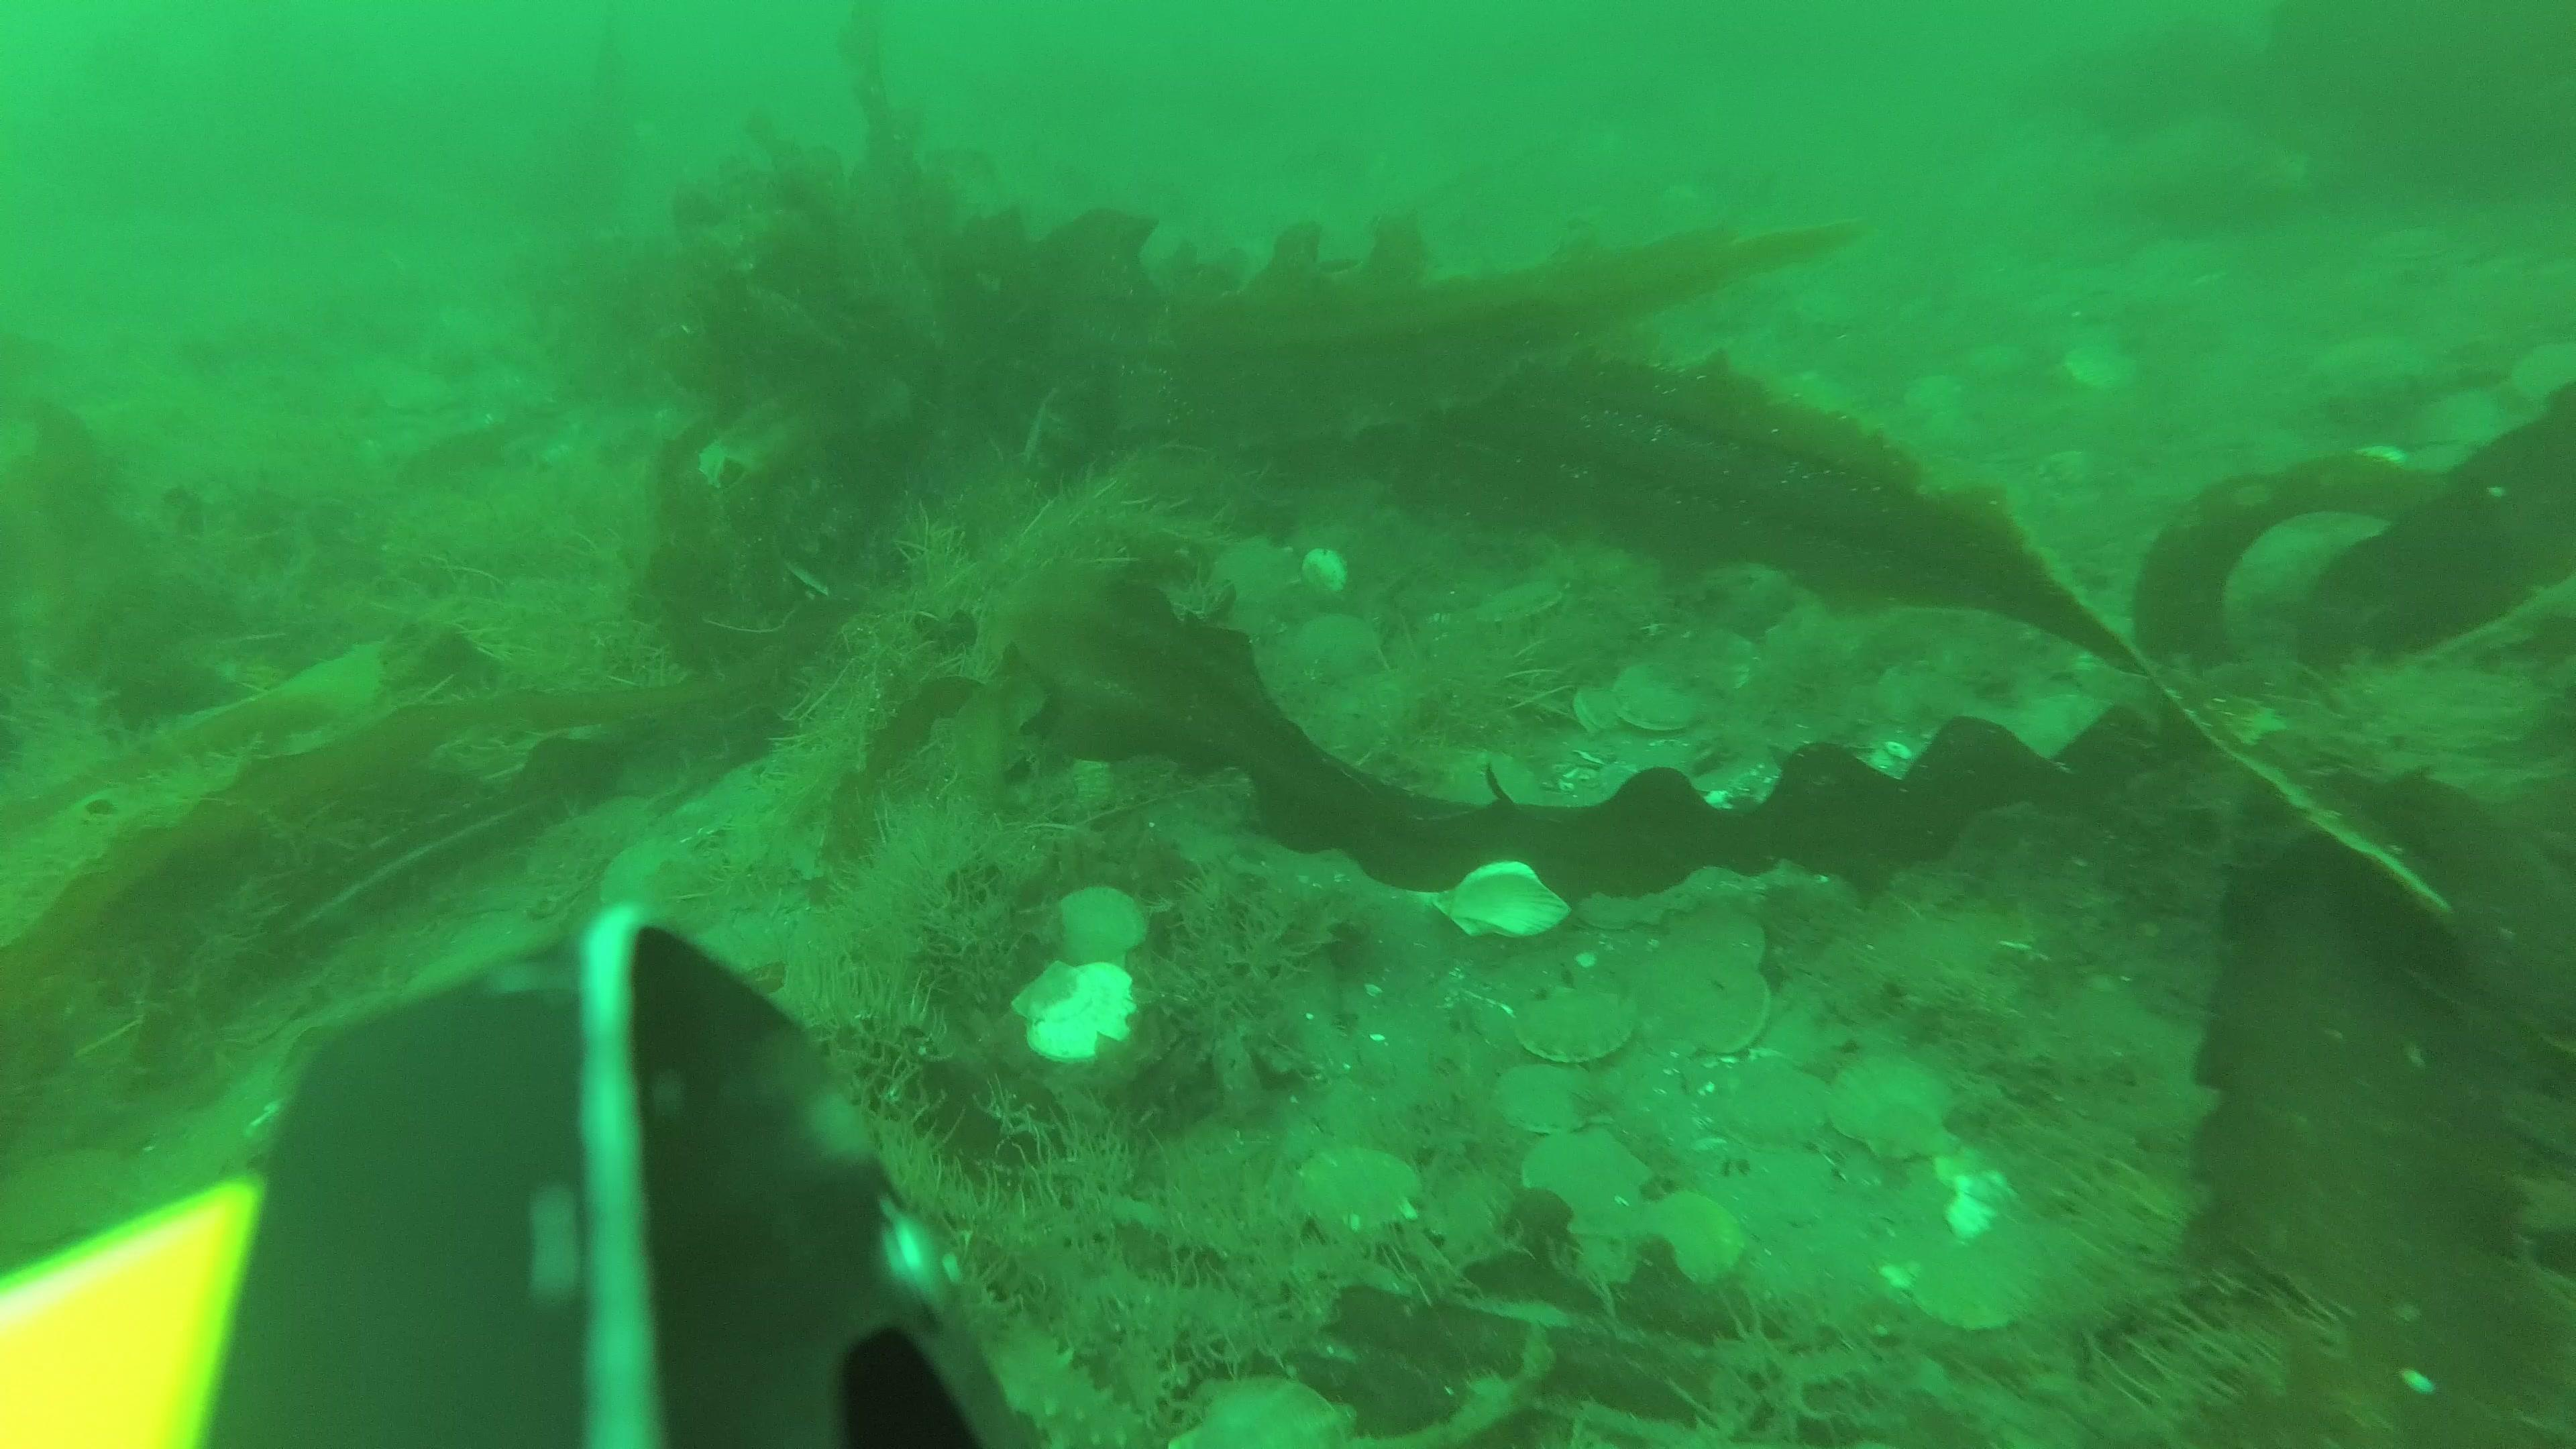holothurian: (968, 1297, 1152, 1449)
scallop: (1173, 1364, 1369, 1449), (1902, 1228, 2054, 1336), (1000, 957, 1150, 1063), (1828, 1049, 1967, 1162), (1283, 1139, 1431, 1246), (1522, 1125, 1658, 1238), (1426, 860, 1576, 955), (1654, 955, 1780, 1058), (1044, 878, 1161, 977), (1637, 1189, 1746, 1290), (1497, 1060, 1621, 1143), (1516, 980, 1635, 1063), (594, 830, 706, 916), (1608, 660, 1718, 736), (1672, 908, 1769, 980), (1049, 747, 1122, 837), (1476, 571, 1568, 635), (1295, 612, 1385, 672), (2054, 343, 2141, 393), (1571, 683, 1628, 738)
